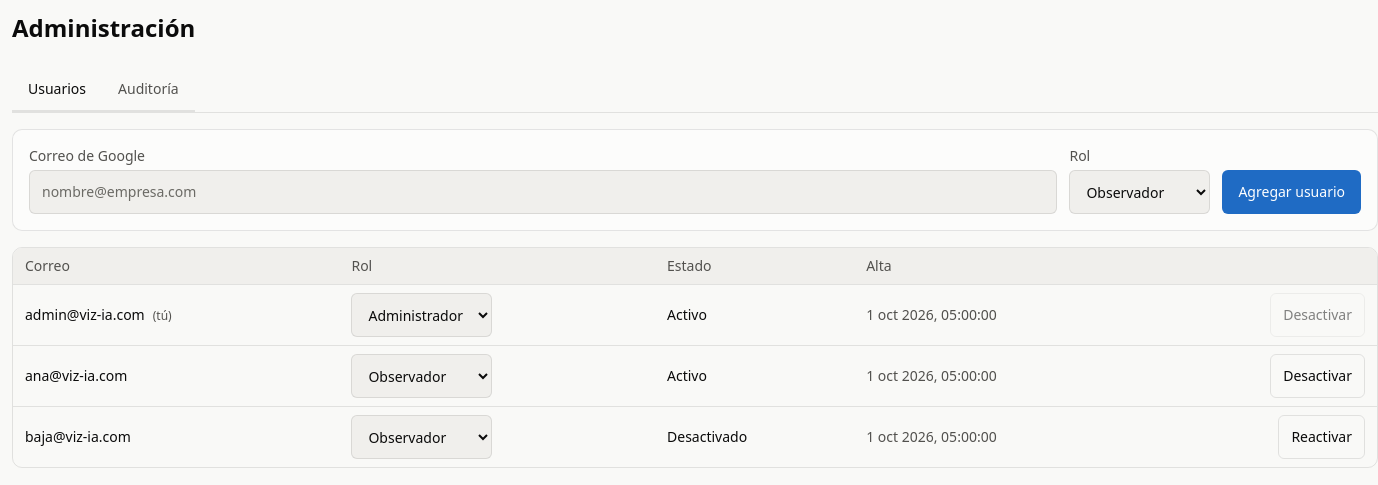
AdminPage - usuarios › muestra el error del servidor al agregar
Type "ana@viz-ia.com" into the field labelled "Correo de Google" at (543, 192), box [29,170,1057,214]
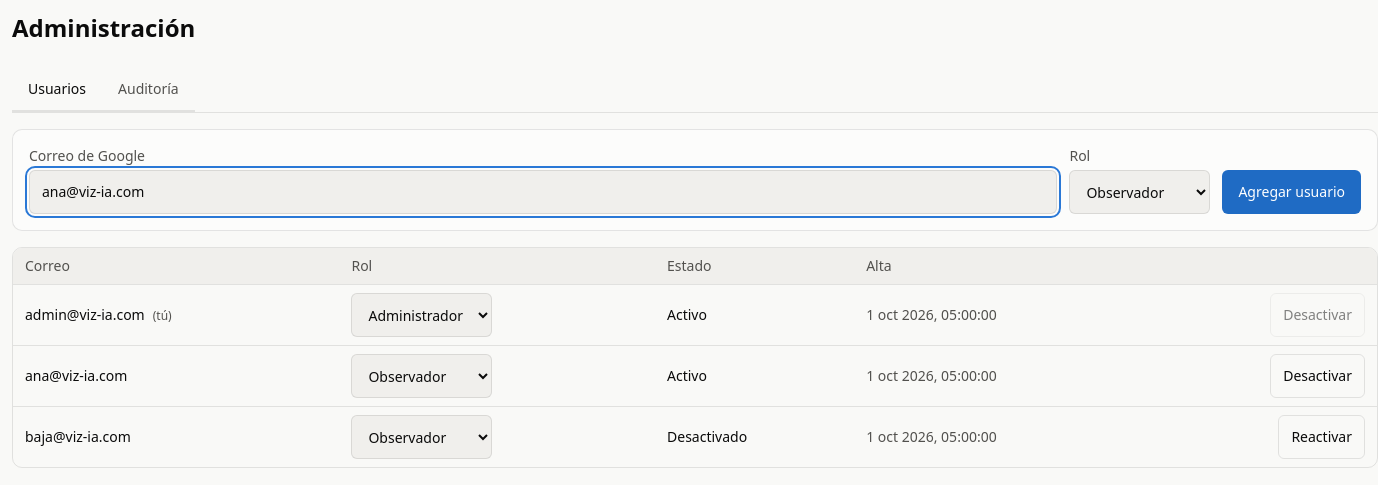
Click the button "Agregar usuario" at (1292, 192), box [1222,170,1361,214]
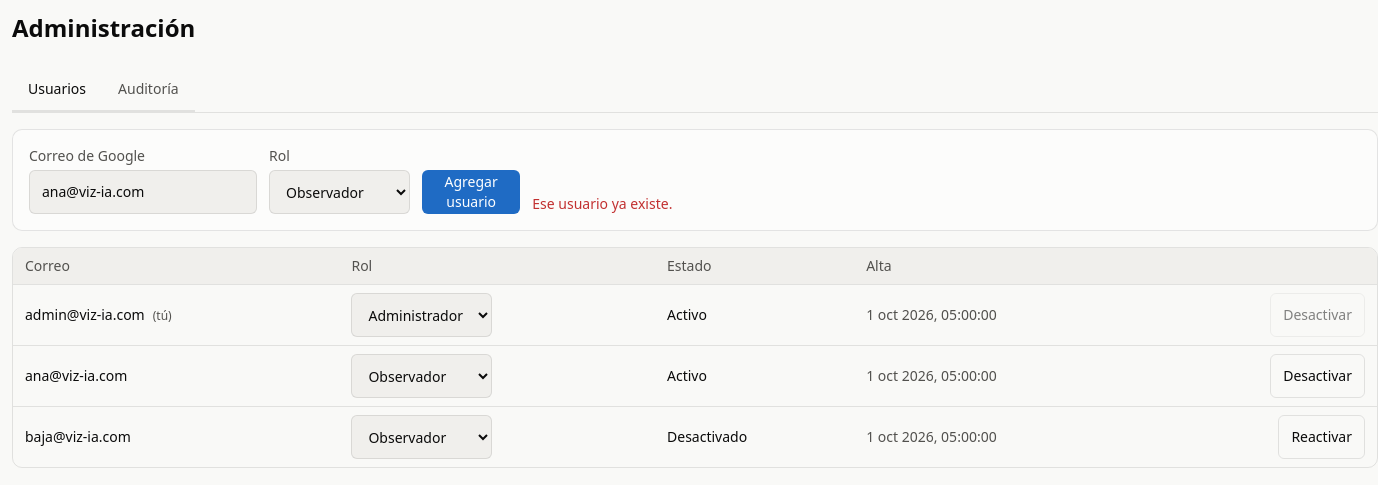
Result: the text "Ese usuario ya existe." is shown at [532,194,672,213]
